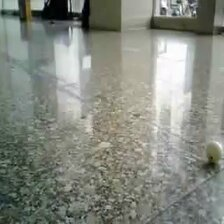w: (205, 140, 223, 162)
